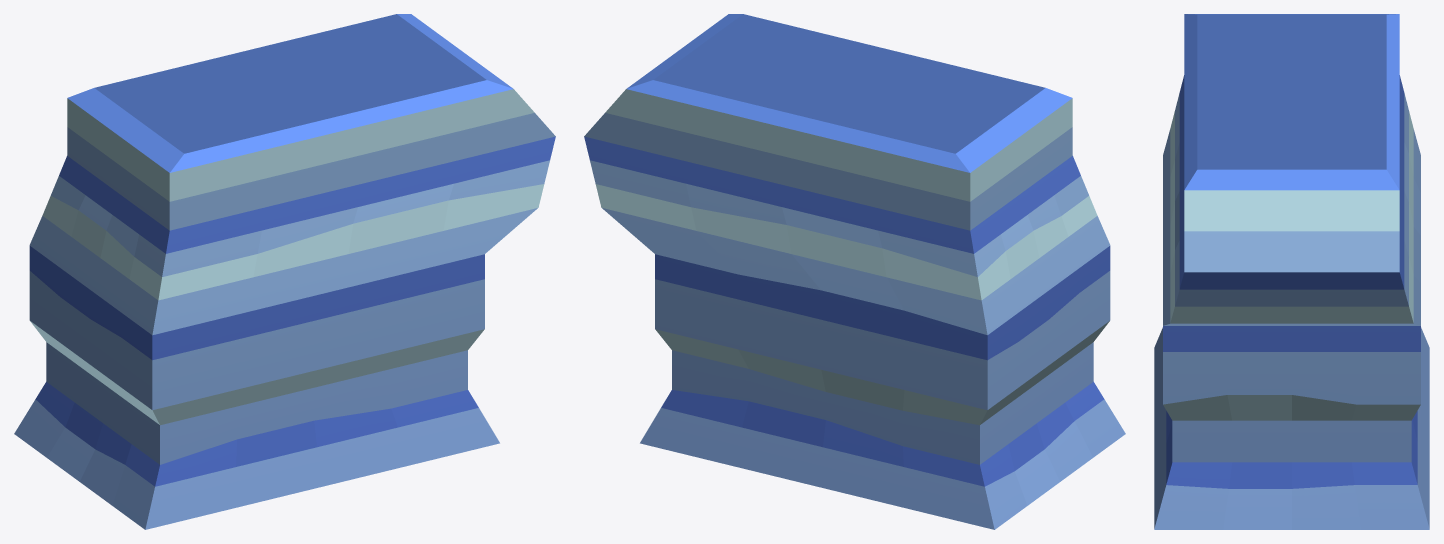
Rendered from StoneWall034.fbx.
The picture shows the model from 3 angles, left to right: view 1: azimuth 30°, elevation 25°; view 2: azimuth 150°, elevation 25°; view 3: azimuth 270°, elevation 25°; orthographic projection. The views are drawn at different scales.
Parts seen in each view (by area): view 1: StoneWall034; view 2: StoneWall034; view 3: StoneWall034.
Part boxes in pixels (x1,y1,x2,y2): StoneWall034: (14, 14, 555, 529); StoneWall034: (584, 14, 1125, 529); StoneWall034: (1154, 14, 1429, 529).
Bounding box in the file's own units: 619 × 482 × 331.
